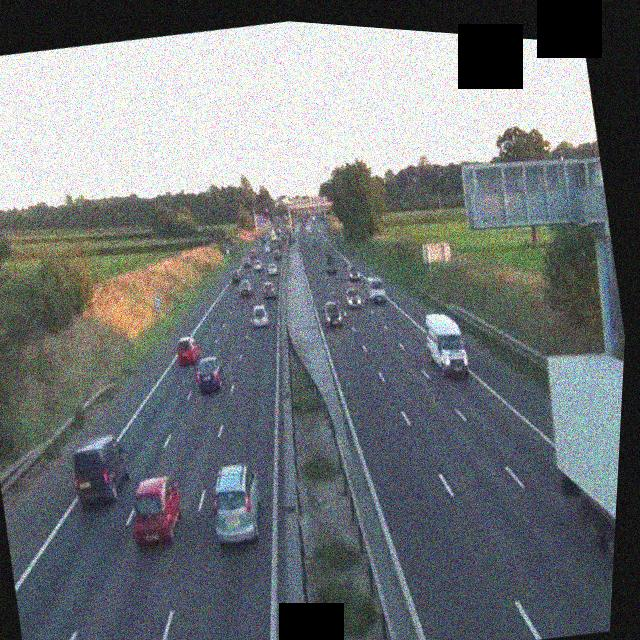car: (66, 429, 138, 511), (205, 459, 269, 549), (123, 469, 191, 551), (194, 353, 228, 394), (173, 333, 203, 367), (322, 298, 345, 329), (365, 275, 387, 305), (250, 302, 271, 329), (343, 285, 364, 310), (262, 279, 278, 301), (237, 278, 253, 297), (345, 263, 361, 282), (324, 256, 338, 275), (266, 260, 279, 277), (229, 269, 242, 285), (249, 257, 261, 272), (246, 250, 257, 261)
truck: (527, 341, 624, 618), (419, 307, 473, 385)
